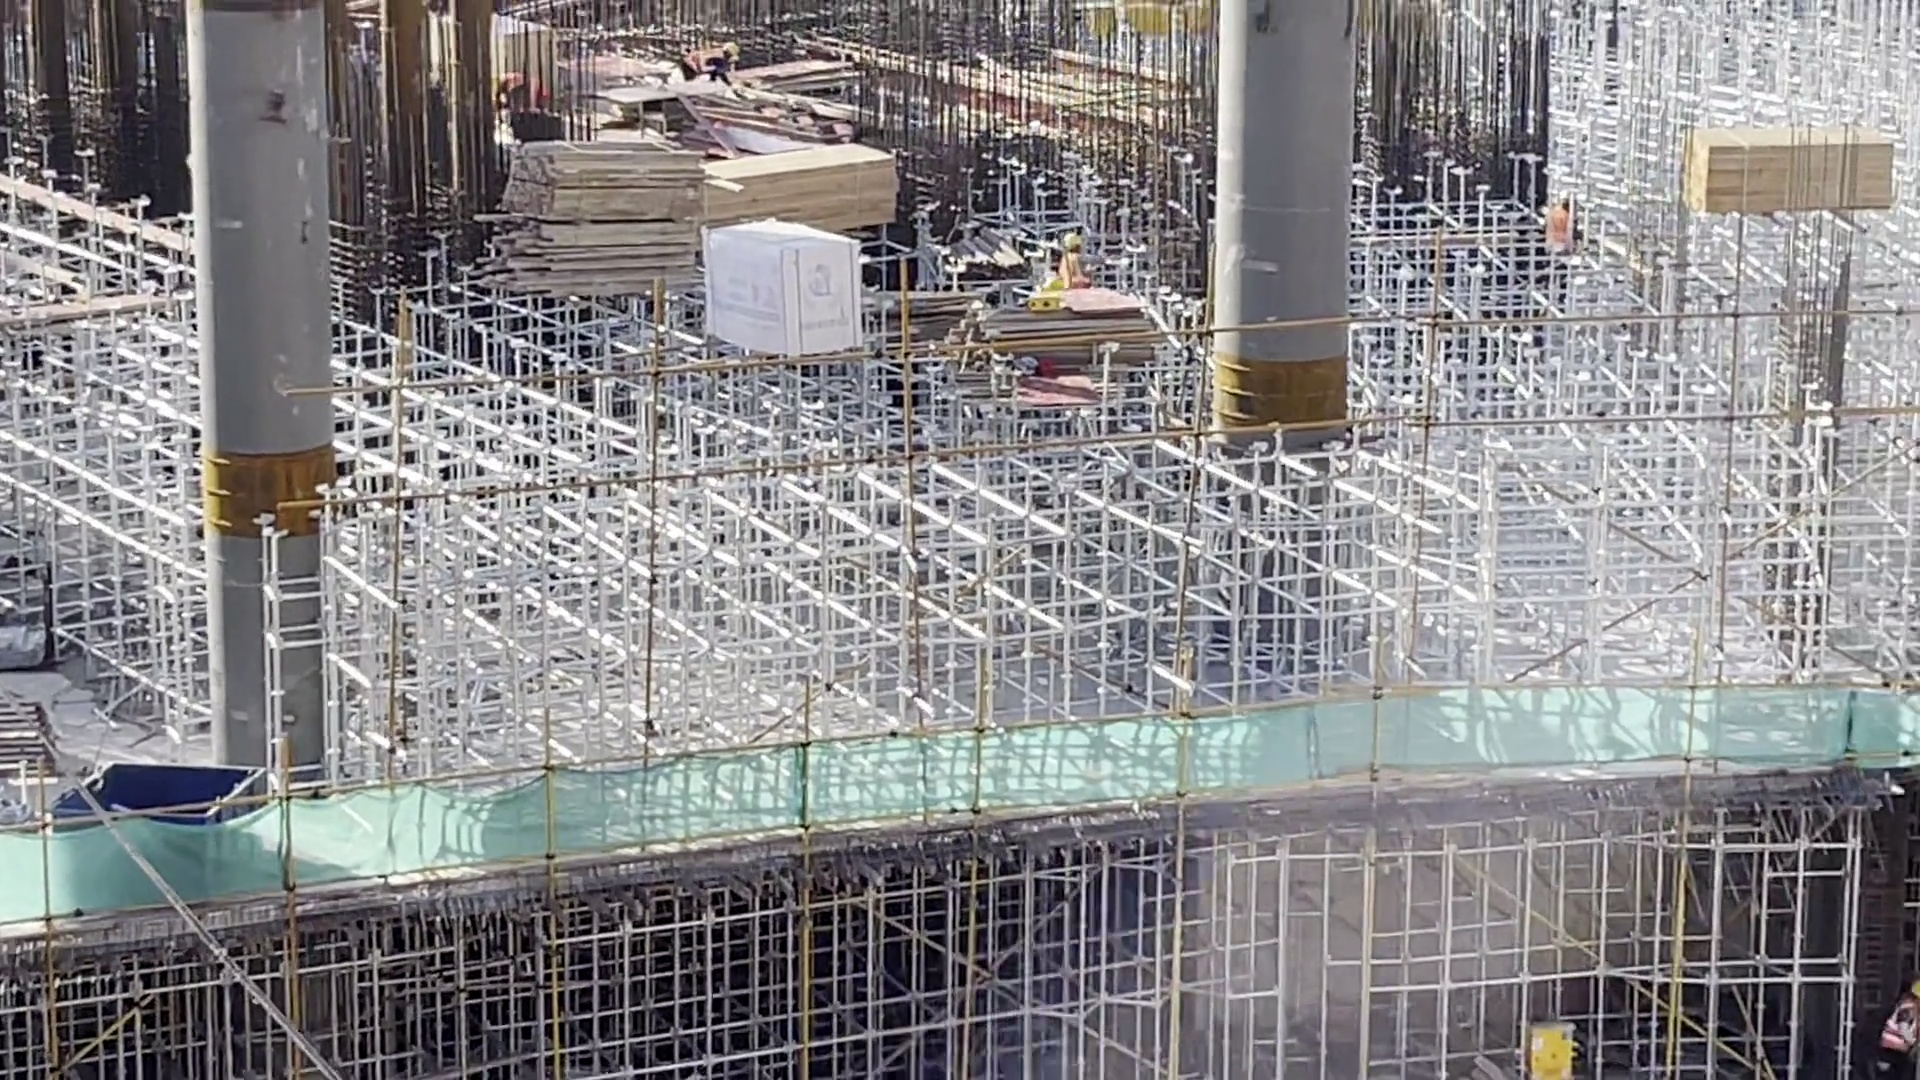board: (981, 282, 1163, 363)
ebox: (1522, 1016, 1585, 1078)
helmet: (1059, 230, 1083, 249), (723, 42, 740, 57), (1558, 186, 1572, 202)
hopper: (44, 750, 276, 802)
person: (1883, 978, 1920, 1078), (682, 40, 742, 84), (1059, 232, 1103, 288), (1542, 190, 1568, 254)
vest: (1885, 998, 1919, 1052), (1060, 250, 1093, 290), (1546, 209, 1570, 255), (687, 45, 722, 73)
wood: (462, 127, 704, 300), (1677, 122, 1896, 219), (701, 146, 908, 228)
